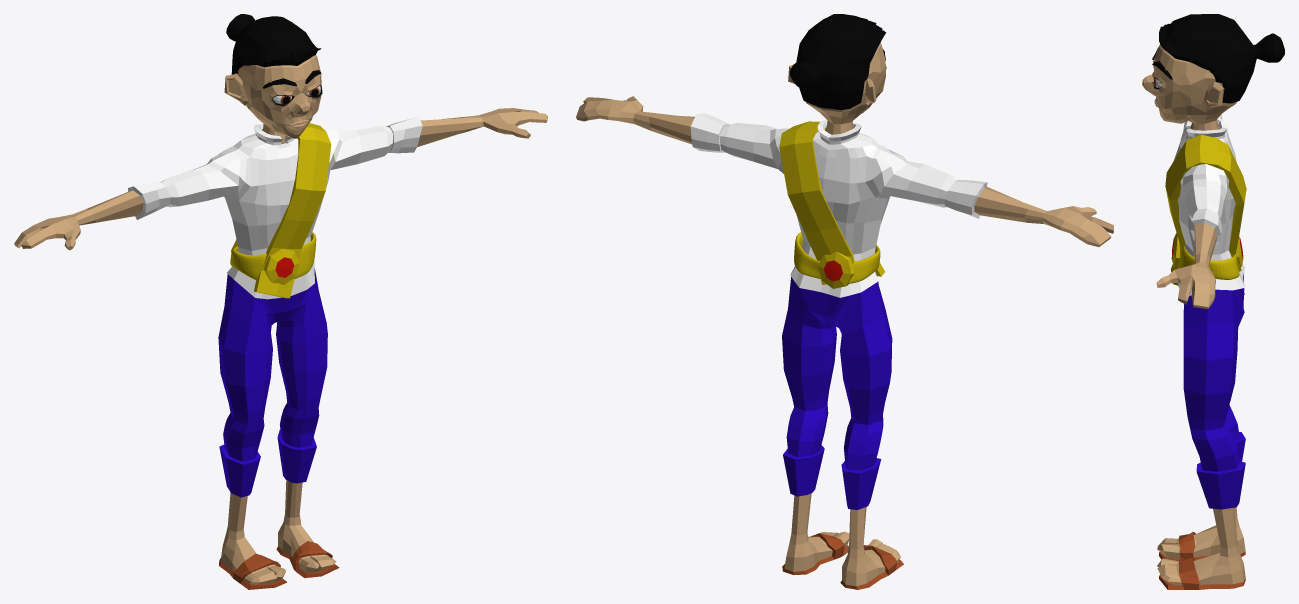
Rendered from OlderBrother_SpencerBarber.fbx.
3 views of the same model, side by side, from view 1: azimuth 30°, elevation 25°; view 2: azimuth 150°, elevation 25°; view 3: azimuth 270°, elevation 25° (orthographic).
Parts seen in each view (by area): view 1: Mesh_OB_Pants, Mesh_OB_Body, Mesh_OB_Shirt, Mesh_OB_Sash, Mesh_OB_Hair, Cube.017, Cube.016, Cube.005; view 2: Mesh_OB_Pants, Mesh_OB_Shirt, Mesh_OB_Body, Mesh_OB_Hair, Mesh_OB_Sash, Cube.017; view 3: Mesh_OB_Body, Mesh_OB_Pants, Mesh_OB_Hair, Mesh_OB_Shirt, Mesh_OB_Sash, Cube.005, Cube.017, Cube.016.
Part boxes in pixels (x1,y1,x2,y2): Mesh_OB_Pants: (218, 268, 327, 497); Mesh_OB_Body: (14, 55, 547, 584); Mesh_OB_Shirt: (128, 117, 422, 299); Mesh_OB_Sash: (231, 123, 331, 298); Mesh_OB_Hair: (226, 14, 321, 74); Cube.017: (230, 232, 316, 279); Cube.016: (219, 553, 287, 589); Cube.005: (276, 541, 339, 578); Mesh_OB_Pants: (782, 277, 892, 509); Mesh_OB_Shirt: (690, 113, 987, 297); Mesh_OB_Body: (576, 42, 1113, 586); Mesh_OB_Hair: (790, 14, 886, 109); Mesh_OB_Sash: (779, 121, 884, 288); Cube.017: (794, 232, 880, 283); Mesh_OB_Body: (1142, 44, 1245, 585); Mesh_OB_Pants: (1183, 273, 1245, 509); Mesh_OB_Hair: (1159, 14, 1284, 103); Mesh_OB_Shirt: (1174, 115, 1244, 296); Mesh_OB_Sash: (1165, 134, 1246, 285); Cube.005: (1159, 557, 1245, 589); Cube.017: (1177, 246, 1239, 279); Cube.016: (1159, 532, 1245, 561).
Size of the model in its own units: 13.87 by 13.59 by 3.21.
